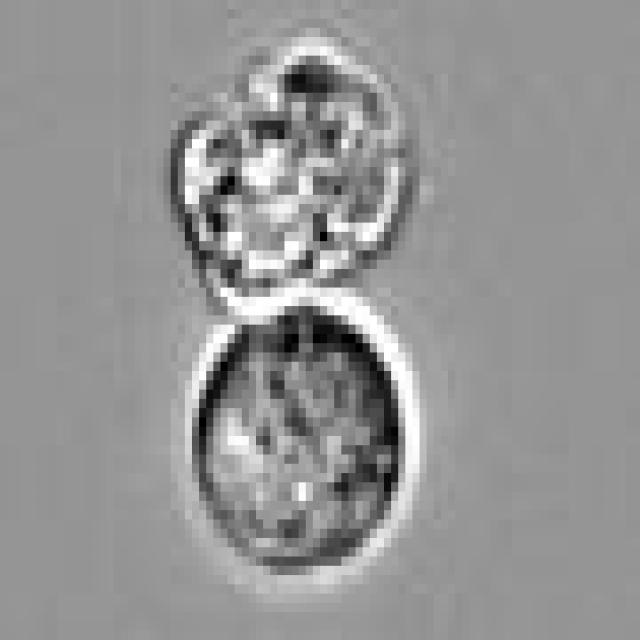Cancer Cell: (185, 306, 412, 584)
WBC: (171, 28, 398, 297)
